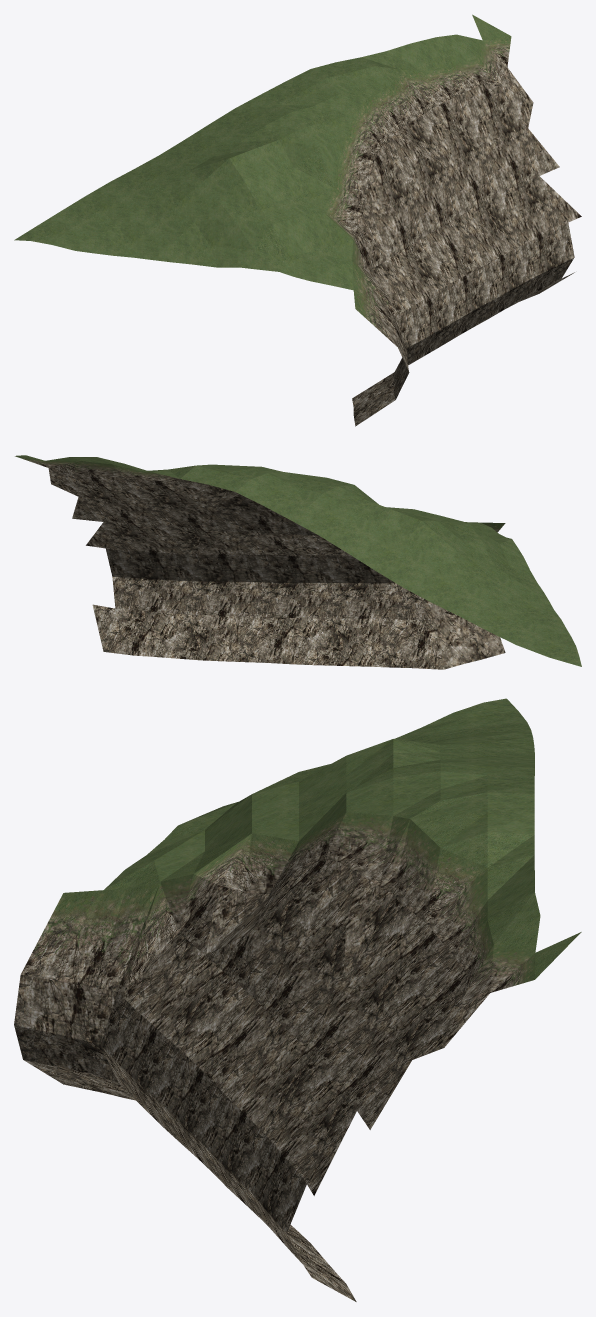
Rendered from a_carisle_mid_landmass_01_04.fbx.
3 views of the same model, one above another, from view 1: azimuth 30°, elevation 25°; view 2: azimuth 150°, elevation 25°; view 3: azimuth 270°, elevation 25° (orthographic). The views are drawn at different scales.
Parts seen in each view (by area): view 1: a_carisle_mid_landmass_01_04; view 2: a_carisle_mid_landmass_01_04; view 3: a_carisle_mid_landmass_01_04.
Part boxes in pixels (x1,y1,x2,y2): a_carisle_mid_landmass_01_04: (14,14,581,426); a_carisle_mid_landmass_01_04: (15,455,581,669); a_carisle_mid_landmass_01_04: (14,698,581,1301).
Bounding box in the file's own units: 48.86 × 29 × 20.96.
